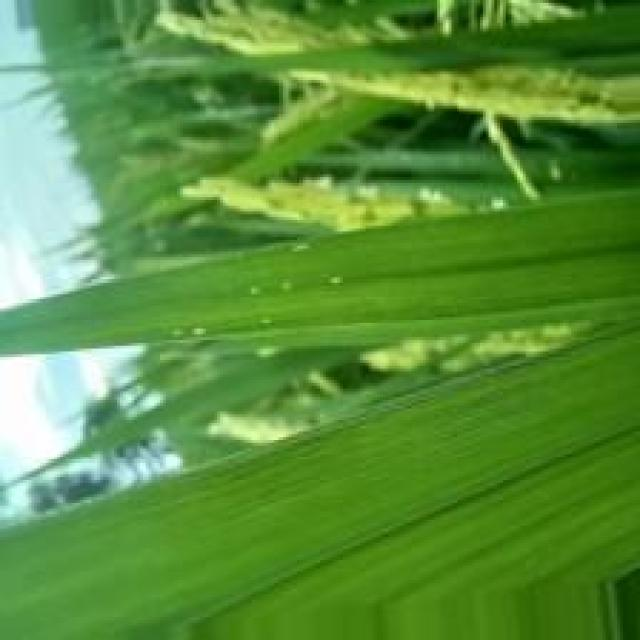HealthyLeaf: (24, 328, 634, 606), (353, 196, 637, 336)
